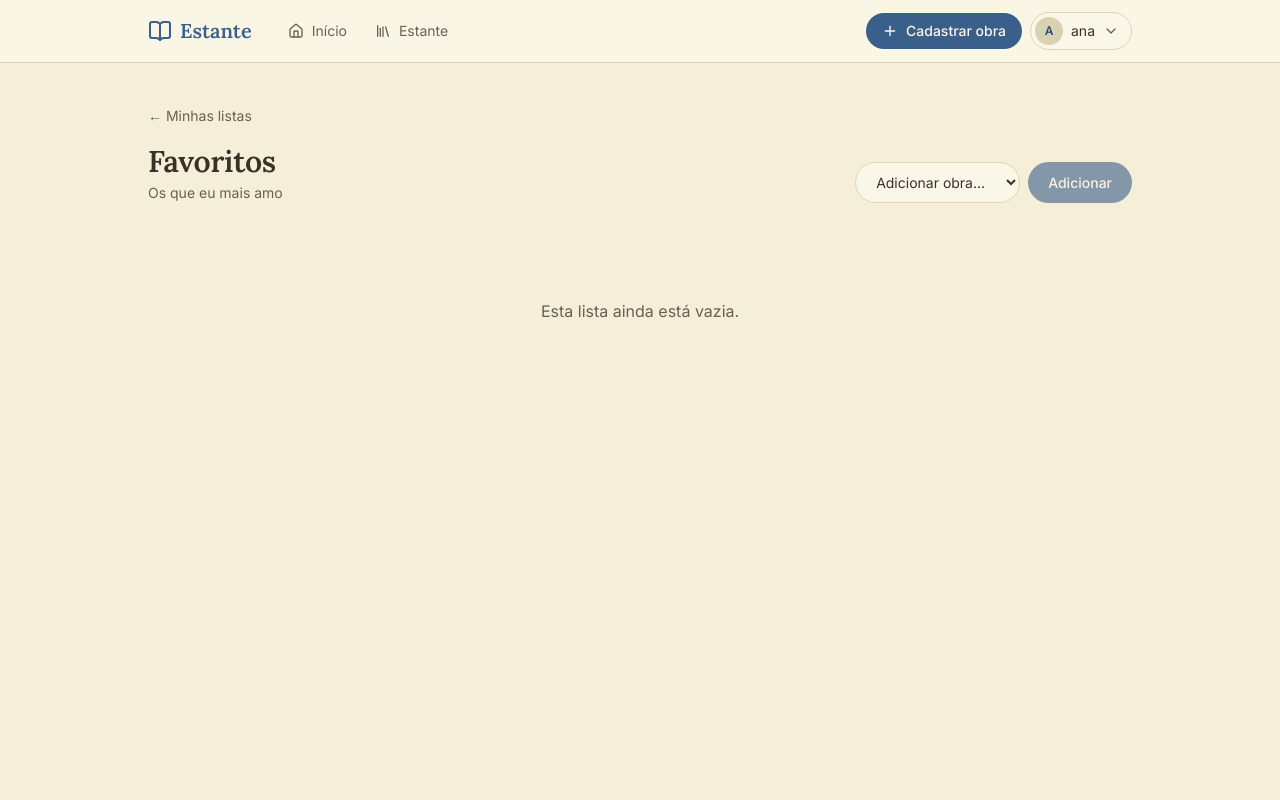
Test case: detalhe da lista › adiciona uma obra à lista
Select "One Piece, Vol. 1" in the dropdown named "Escolher obra para adicionar" at point(938, 182), box [855,162,1020,203]
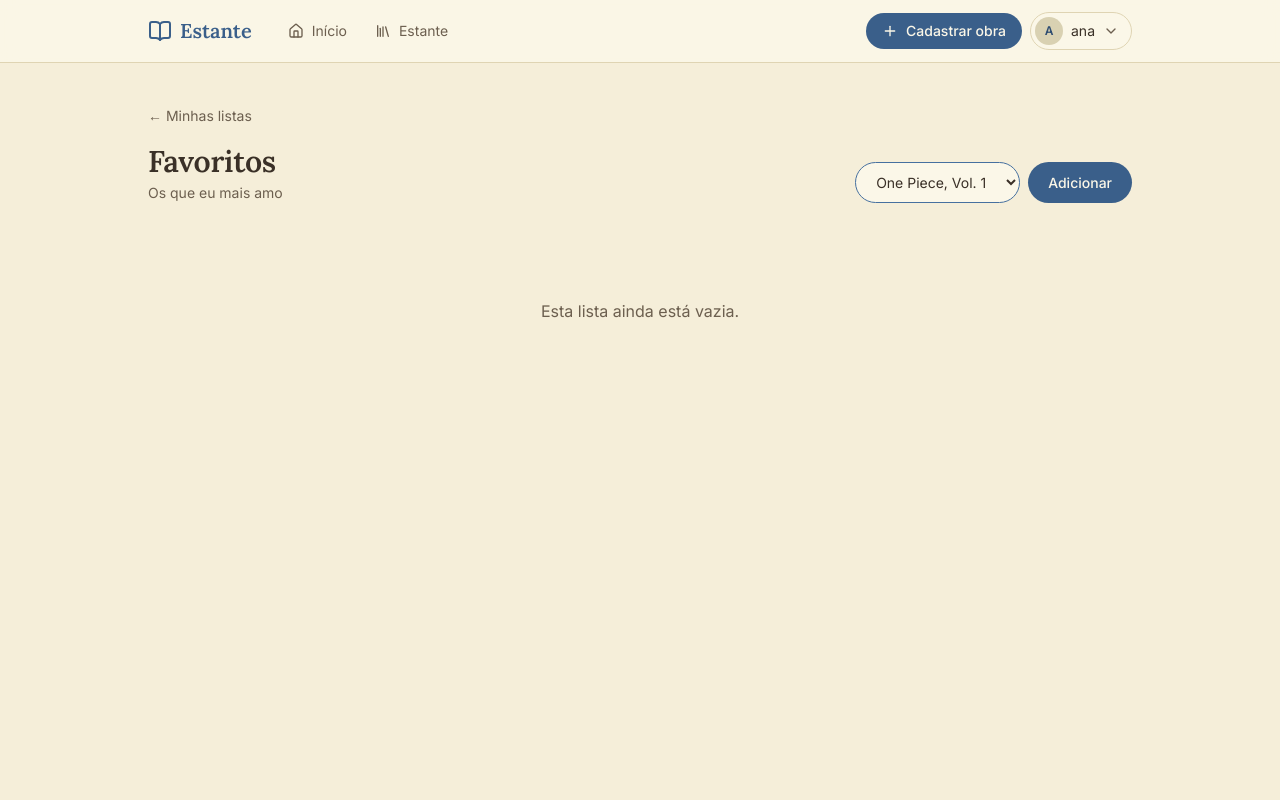
Click the button "Adicionar".
click(1080, 182)  # box [1028,162,1132,203]
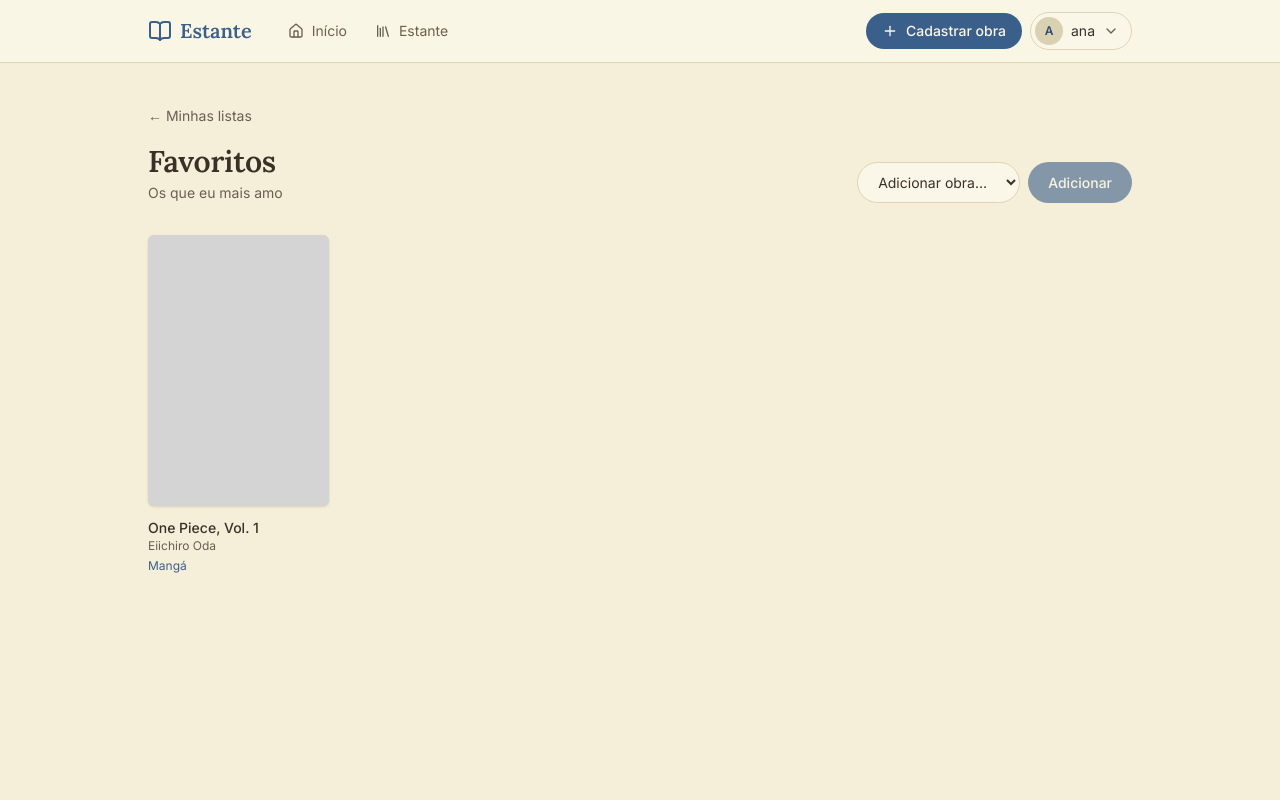
Expected: the text "Eiichiro Oda" is shown, [148,538,216,553]
Expected: the text "Esta lista ainda está vazia." is gone
